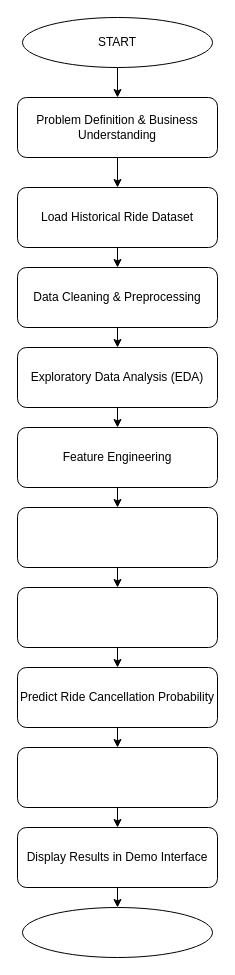
The diagram is 235 pixels wide and 975 high, and some of its shapes have lost their labels. Each missing label, with the box of its shape:
Evaluate Model Performance: (16, 586, 218, 648)
Generate Insights & Visual Outputs: (16, 746, 218, 808)
STOP: (22, 906, 212, 958)
Train Machine Learning Model: (16, 506, 218, 568)
